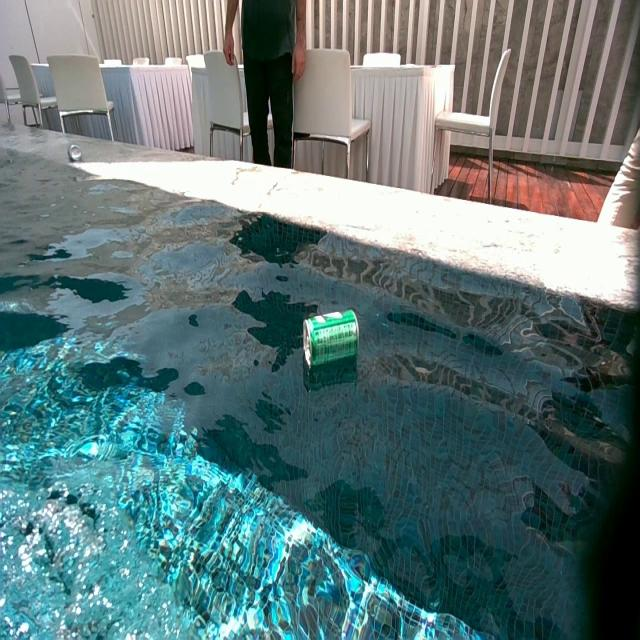Cans: (304, 310, 359, 375), (69, 144, 81, 159)
